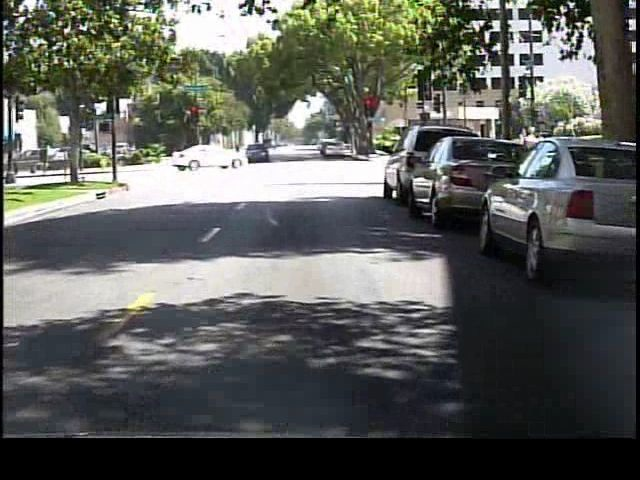person: (251, 141, 268, 170)
